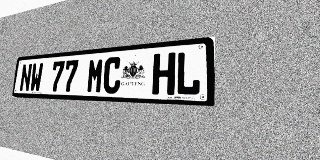7: (62, 60, 79, 93), (49, 61, 65, 93)
C: (102, 56, 122, 94)
H: (152, 52, 176, 95)
L: (175, 50, 201, 96)
M: (86, 58, 105, 93)
N: (19, 63, 32, 92)
W: (29, 62, 44, 92)
